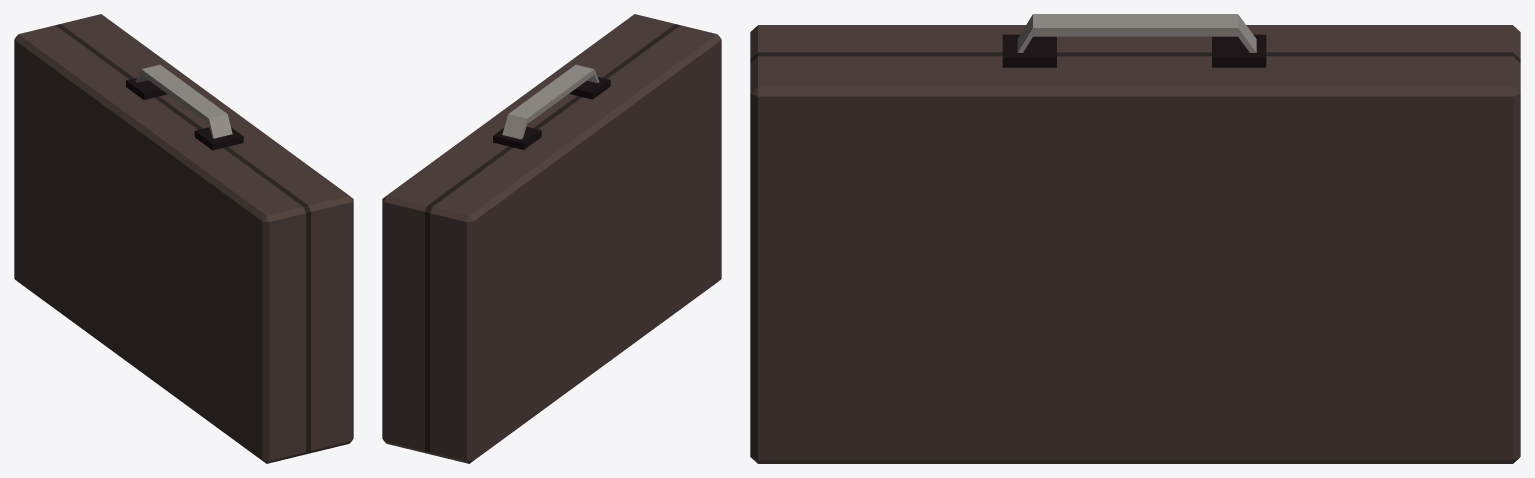
Rendered from Suitcase_01.glb.
The picture shows the model from 3 angles, left to right: view 1: azimuth 30°, elevation 25°; view 2: azimuth 150°, elevation 25°; view 3: azimuth 270°, elevation 25°; orthographic projection. The views are drawn at different scales.
Visible parts, largest first — view 1: Suitcase_01; view 2: Suitcase_01; view 3: Suitcase_01.
Boxes of the visible parts, box(x1,y1,x2,y2) form: Suitcase_01: box(14, 14, 353, 463); Suitcase_01: box(382, 14, 721, 463); Suitcase_01: box(750, 14, 1520, 463).
Size of what is drawn, in the model's own units: 0.2045 by 0.5799 by 0.9807.
Materials: 1 (1 with a texture image).
